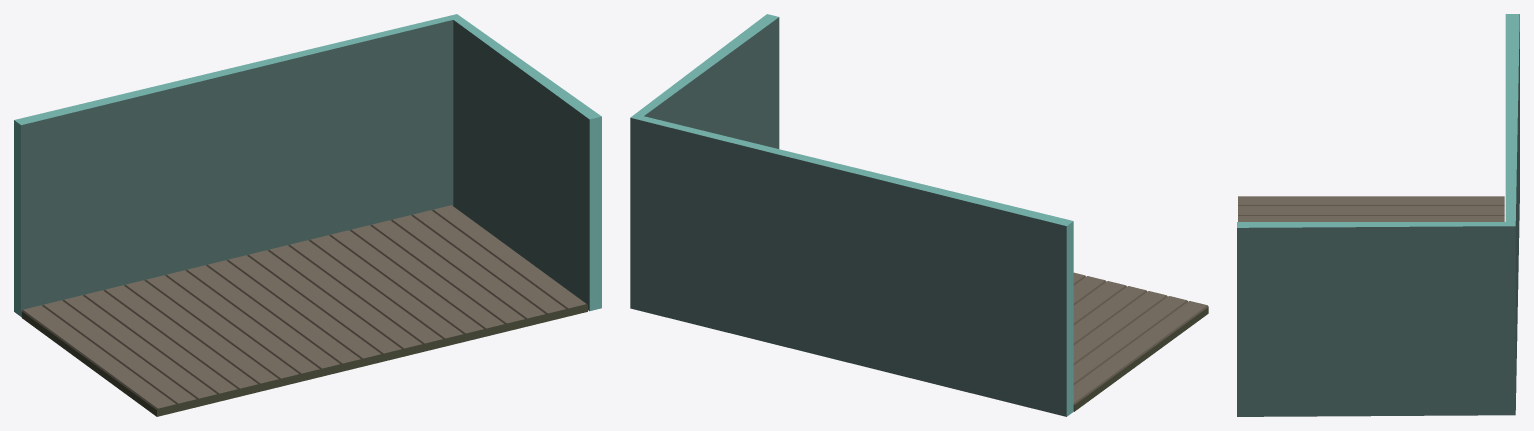
File: utility room.fbx
3 renders of one model, left to right at view 1: azimuth 30°, elevation 25°; view 2: azimuth 150°, elevation 25°; view 3: azimuth 270°, elevation 25°, orthographic.
Parts seen in each view (by area): view 1: utility room; view 2: utility room; view 3: utility room.
Boxes of the visible parts, x1,y1,x2,y2 form: utility room: (14,14,601,416); utility room: (630,14,1208,416); utility room: (1237,14,1519,416).
Size of the model in its own units: 866 by 358 by 484.
